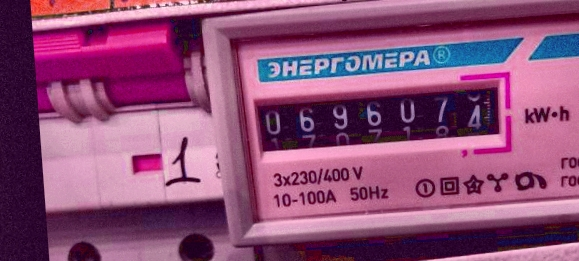0: (261, 106, 284, 136), (397, 94, 417, 124), (297, 104, 315, 131)
4: (464, 102, 483, 131)
6: (362, 96, 382, 127)
7: (430, 92, 450, 122)
9: (329, 101, 349, 130)
screen: (238, 67, 517, 170)
